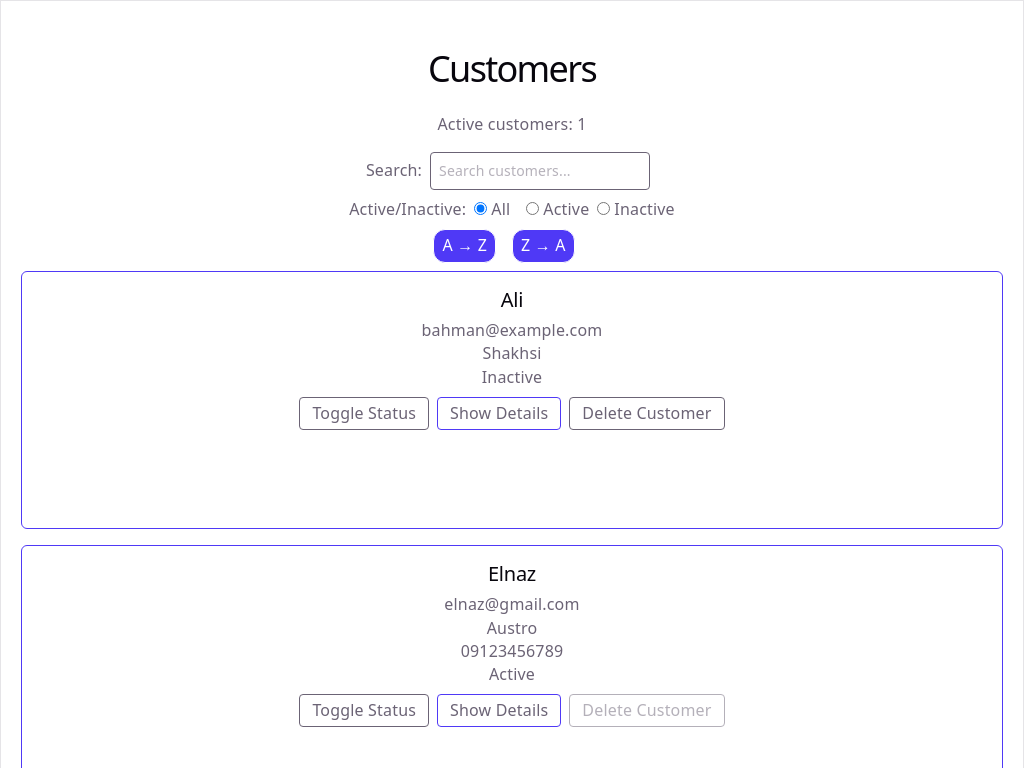
Test: should filter inactive customers by search term
Check: the heading "Ali" is shown, box [501,286,523,313]
Step 1. Click the radio button labelled "Inactive" → (604, 209), box [597,202,610,215]
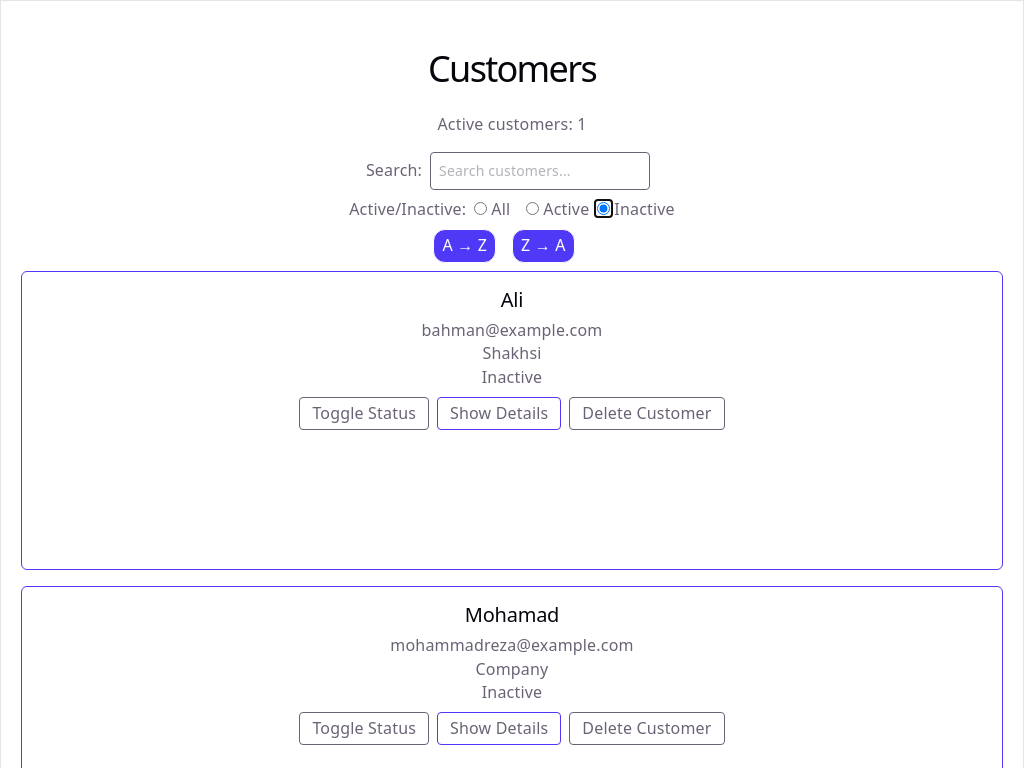
Step 2. Type "Ali" into the field with placeholder "Search customers..." → (540, 171), box [430,152,650,190]
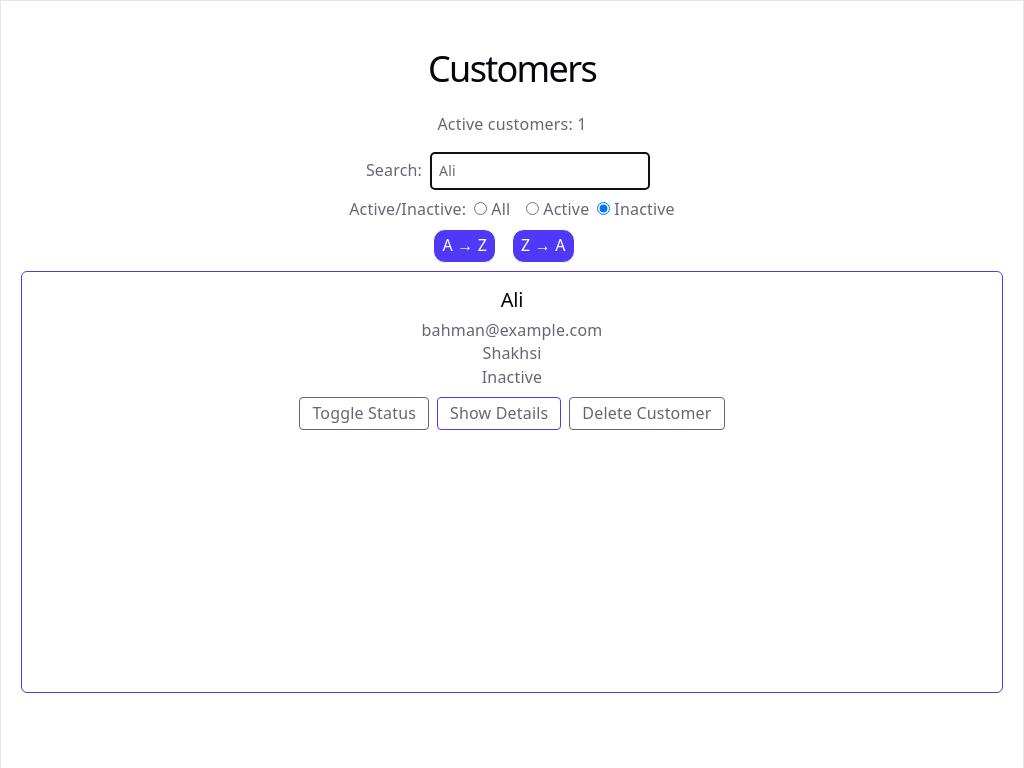
Check: the heading "Ali" is shown, box [501,286,523,313]
Check: the heading "Mohamad" is gone
